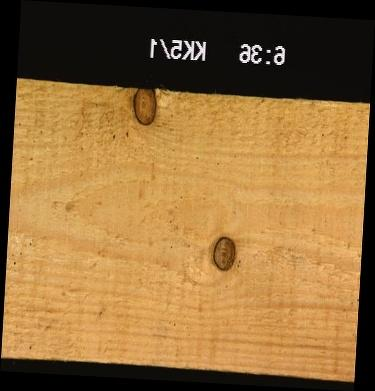dry_knot: (211, 235, 235, 271)
edge_knot: (131, 86, 158, 125)
